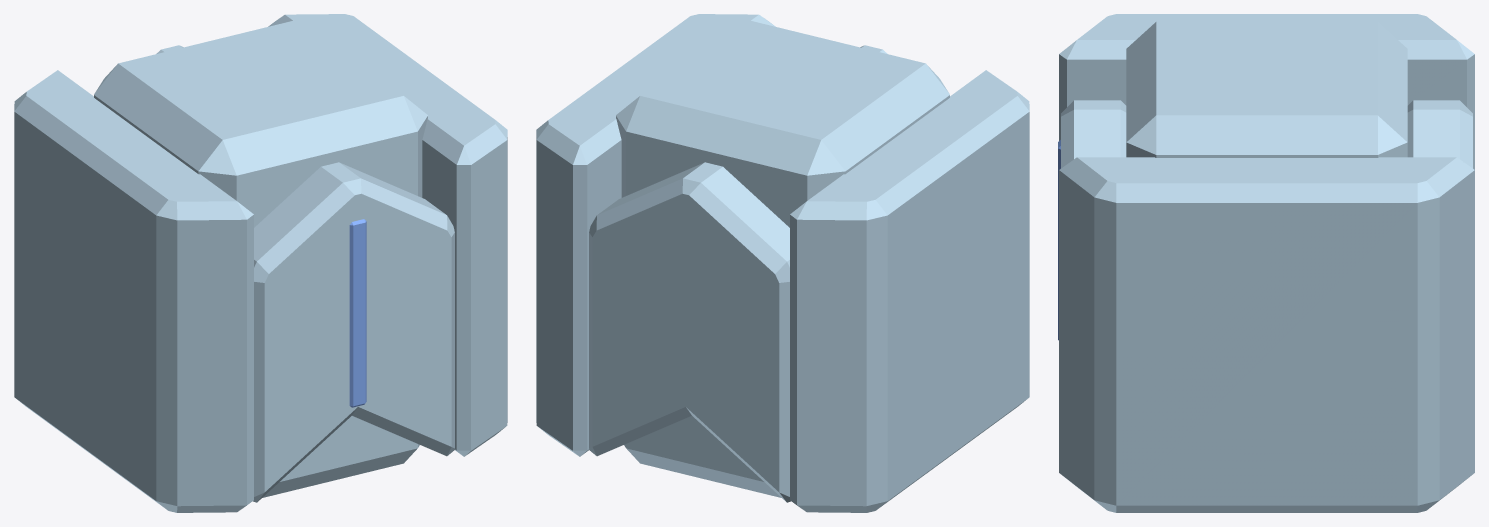
The model's file is R4X_HullBooster_LOD1.glb.
3 views of the same model, side by side, from view 1: azimuth 30°, elevation 25°; view 2: azimuth 150°, elevation 25°; view 3: azimuth 270°, elevation 25° (orthographic). The views are drawn at different scales.
Parts seen in each view (by area): view 1: R4X_HullBooster_LOD1; view 2: R4X_HullBooster_LOD1; view 3: R4X_HullBooster_LOD1.
Part boxes in pixels (box(x1,y1,x2,y2)): R4X_HullBooster_LOD1: box(14, 14, 507, 512); R4X_HullBooster_LOD1: box(536, 14, 1029, 512); R4X_HullBooster_LOD1: box(1058, 14, 1474, 512).
Bounding box in the file's own units: 0.52 × 0.52 × 0.504.
